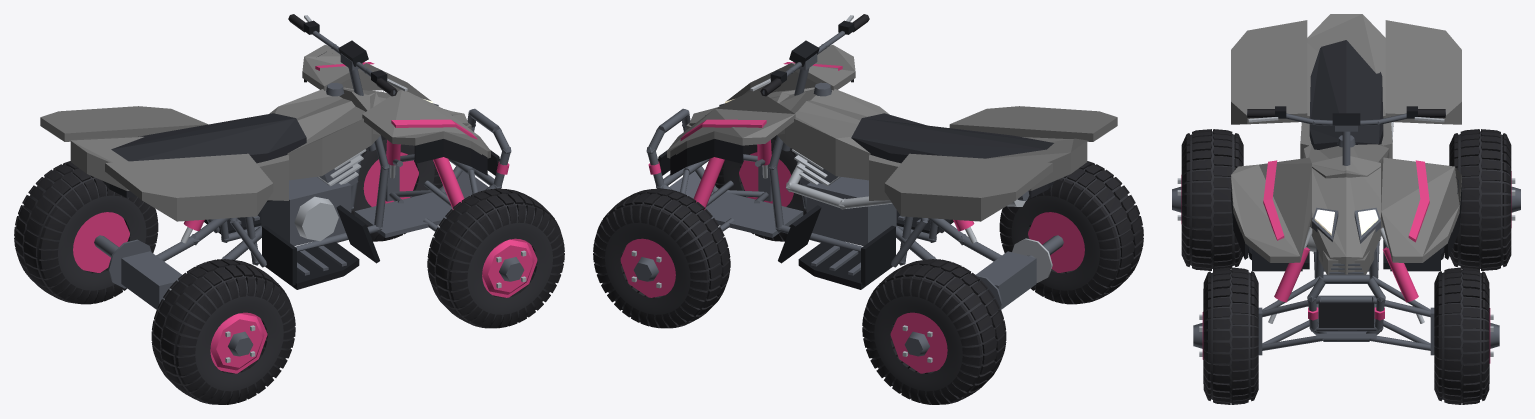
File: quad_atv90.glb
3 renders of one model, left to right at view 1: azimuth 30°, elevation 25°; view 2: azimuth 150°, elevation 25°; view 3: azimuth 270°, elevation 25°, orthographic. The views are drawn at different scales.
Parts seen in each view (by area): view 1: rear_fender_R, intake_slat0, wheel_rear_L_tread, wheel_front_L_tread, wheel_rear_R_tread, seat_R, wheel_rear_L_sidewall, wheel_front_L_sidewall, wheel_rear_R_sidewall, swingarm, front_fender_lip_R, heel_guard_R (+10 smaller); view 2: rear_fender_R, intake_slat0, wheel_rear_R_tread, wheel_front_R_tread, wheel_rear_L_tread, seat_R, wheel_rear_R_sidewall, wheel_front_R_sidewall, wheel_rear_L_sidewall, swingarm, front_fender_lip_R, heel_guard_R (+11 smaller); view 3: rear_fender_R, wheel_rear_L_tread, wheel_rear_R_tread, wheel_front_R_tread, wheel_front_L_tread, seat_R, intake_slat0, heel_guard_R, wheel_front_R_sidewall, wheel_front_L_sidewall, front_fender_stripe_R, wheel_rear_R_sidewall (+13 smaller).
Part boxes in pixels (x1=…): rear_fender_R: x1=40, y1=44, x2=490, y2=221; intake_slat0: x1=207, y1=82, x2=511, y2=275; wheel_rear_L_tread: x1=151, y1=259, x2=295, y2=404; wheel_front_L_tread: x1=427, y1=188, x2=564, y2=328; wheel_rear_R_tread: x1=14, y1=161, x2=158, y2=304; seat_R: x1=102, y1=113, x2=306, y2=197; wheel_rear_L_sidewall: x1=157, y1=266, x2=292, y2=401; wheel_front_L_sidewall: x1=432, y1=194, x2=561, y2=324; wheel_rear_R_sidewall: x1=18, y1=166, x2=154, y2=300; swingarm: x1=94, y1=218, x2=261, y2=309; front_fender_lip_R: x1=204, y1=51, x2=487, y2=289; heel_guard_R: x1=204, y1=150, x2=499, y2=285; rear_fender_R: x1=667, y1=44, x2=1117, y2=221; intake_slat0: x1=646, y1=82, x2=1029, y2=275; wheel_rear_R_tread: x1=862, y1=259, x2=1006, y2=404; wheel_front_R_tread: x1=593, y1=188, x2=730, y2=328; wheel_rear_L_tread: x1=999, y1=161, x2=1143, y2=304; seat_R: x1=851, y1=113, x2=1055, y2=197; wheel_rear_R_sidewall: x1=865, y1=266, x2=1000, y2=401; wheel_front_R_sidewall: x1=596, y1=194, x2=725, y2=324; wheel_rear_L_sidewall: x1=1003, y1=166, x2=1139, y2=300; swingarm: x1=896, y1=218, x2=1063, y2=309; front_fender_lip_R: x1=670, y1=79, x2=953, y2=289; heel_guard_R: x1=658, y1=150, x2=953, y2=285; rear_fender_R: x1=1231, y1=14, x2=1461, y2=274; wheel_rear_L_tread: x1=1181, y1=129, x2=1243, y2=270; wheel_rear_R_tread: x1=1449, y1=129, x2=1511, y2=270; wheel_front_R_tread: x1=1434, y1=267, x2=1489, y2=404; wheel_front_L_tread: x1=1203, y1=267, x2=1258, y2=404; seat_R: x1=1309, y1=40, x2=1383, y2=149; intake_slat0: x1=1307, y1=135, x2=1385, y2=341; heel_guard_R: x1=1252, y1=249, x2=1440, y2=327; wheel_front_R_sidewall: x1=1434, y1=270, x2=1489, y2=402; wheel_front_L_sidewall: x1=1203, y1=270, x2=1258, y2=402; front_fender_stripe_R: x1=1263, y1=160, x2=1429, y2=242; wheel_rear_R_sidewall: x1=1451, y1=131, x2=1511, y2=268.
Bounding box in the file's own units: 1.27 × 0.7297 × 0.9376.
